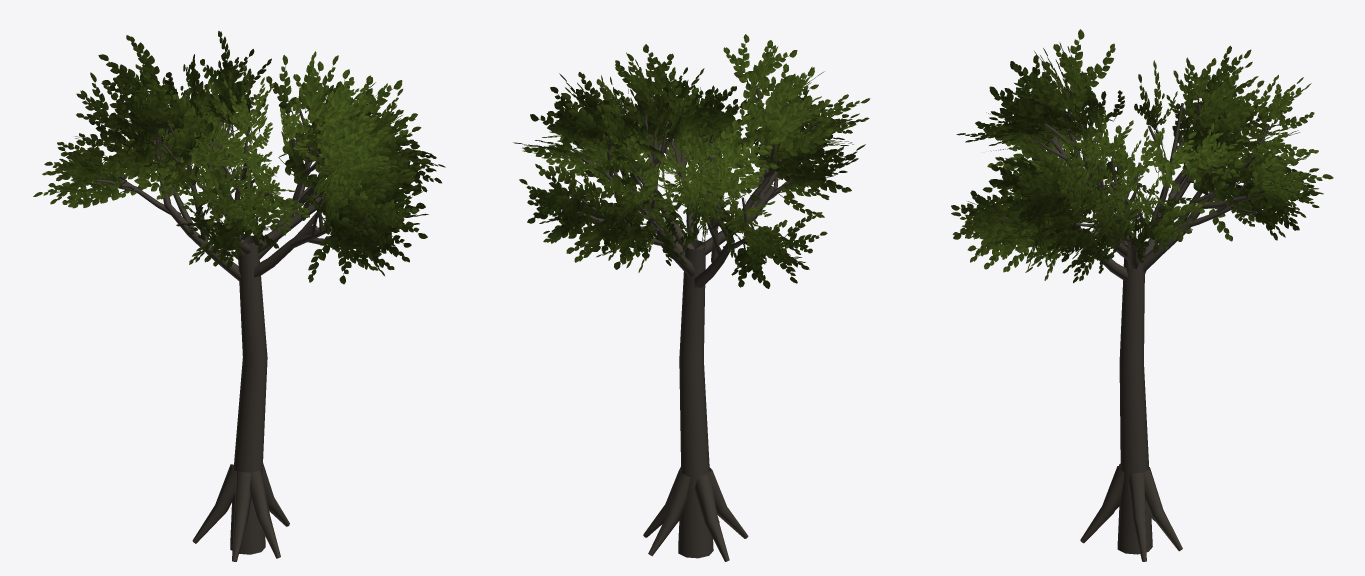
File: jungle_tree_1_burnt2.glb
3 renders of one model, left to right at view 1: azimuth 30°, elevation 25°; view 2: azimuth 150°, elevation 25°; view 3: azimuth 270°, elevation 25°, orthographic.
Visible parts, largest first — view 1: jungle_tree_1_burnt2; view 2: jungle_tree_1_burnt2; view 3: jungle_tree_1_burnt2.
Boxes of the visible parts, <box> form: jungle_tree_1_burnt2: <box>33,31,445,561</box>; jungle_tree_1_burnt2: <box>513,34,870,561</box>; jungle_tree_1_burnt2: <box>951,29,1333,561</box>.
Size of the model in its own units: 12.91 by 17.03 by 12.88.
Materials: 2 (1 with a texture image).
